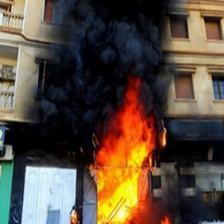fire: (51, 8, 175, 165), (95, 131, 155, 224)
